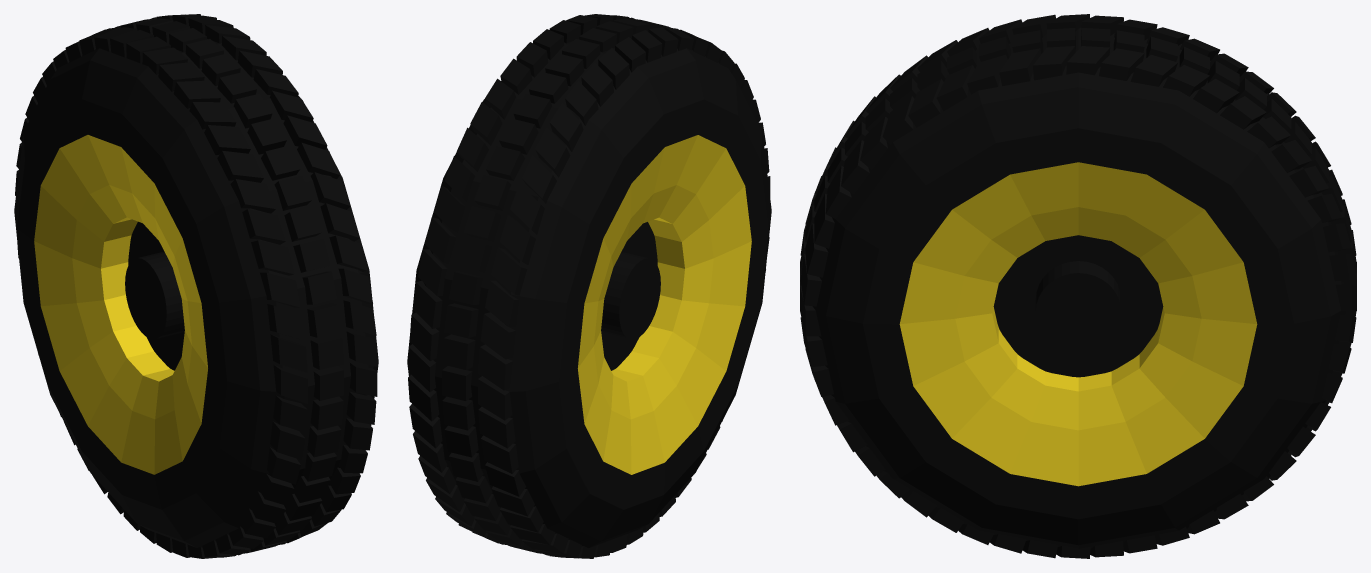
File: Tire.fbx
3 views of the same model, side by side, from view 1: azimuth 30°, elevation 25°; view 2: azimuth 150°, elevation 25°; view 3: azimuth 270°, elevation 25° (orthographic). The views are drawn at different scales.
Parts seen in each view (by area): view 1: Plane, Cube, Plane.001, Cylinder; view 2: Plane, Cube, Plane.001, Cylinder; view 3: Plane, Plane.001, Cube, Cylinder.
Part boxes in pixels (x1,y1,x2,y2): Plane: (14, 39, 378, 547); Cube: (15, 14, 377, 558); Plane.001: (34, 135, 207, 474); Cylinder: (125, 221, 184, 370); Plane: (407, 39, 771, 548); Cube: (408, 14, 770, 558); Plane.001: (577, 135, 751, 474); Cylinder: (601, 222, 660, 370); Plane: (813, 27, 1345, 548); Plane.001: (899, 162, 1257, 486); Cube: (800, 14, 1356, 558); Cylinder: (993, 235, 1163, 377).
Bounding box in the file's own units: 1252 × 3907 × 3902.
